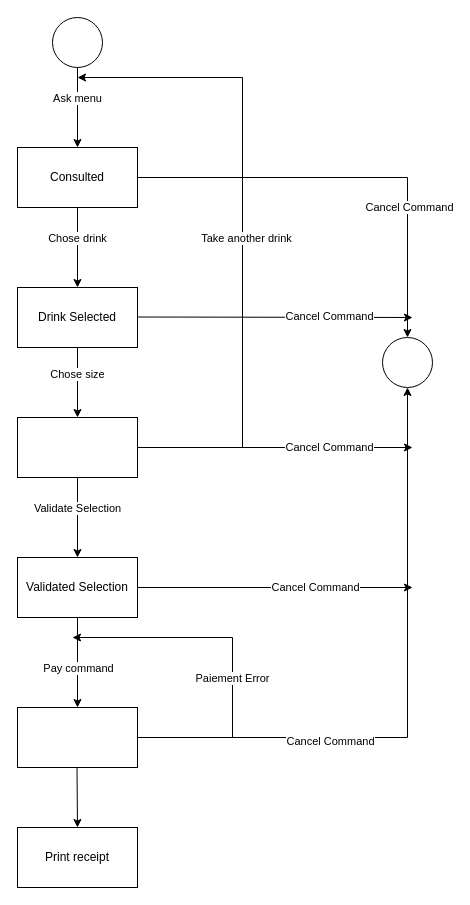
This 470x905 diagram has some shape labels left out. Each missing label, with the centre of its shape:
"Paid" belongs at point 77,737.
"Size Selected" belongs at point 77,447.
